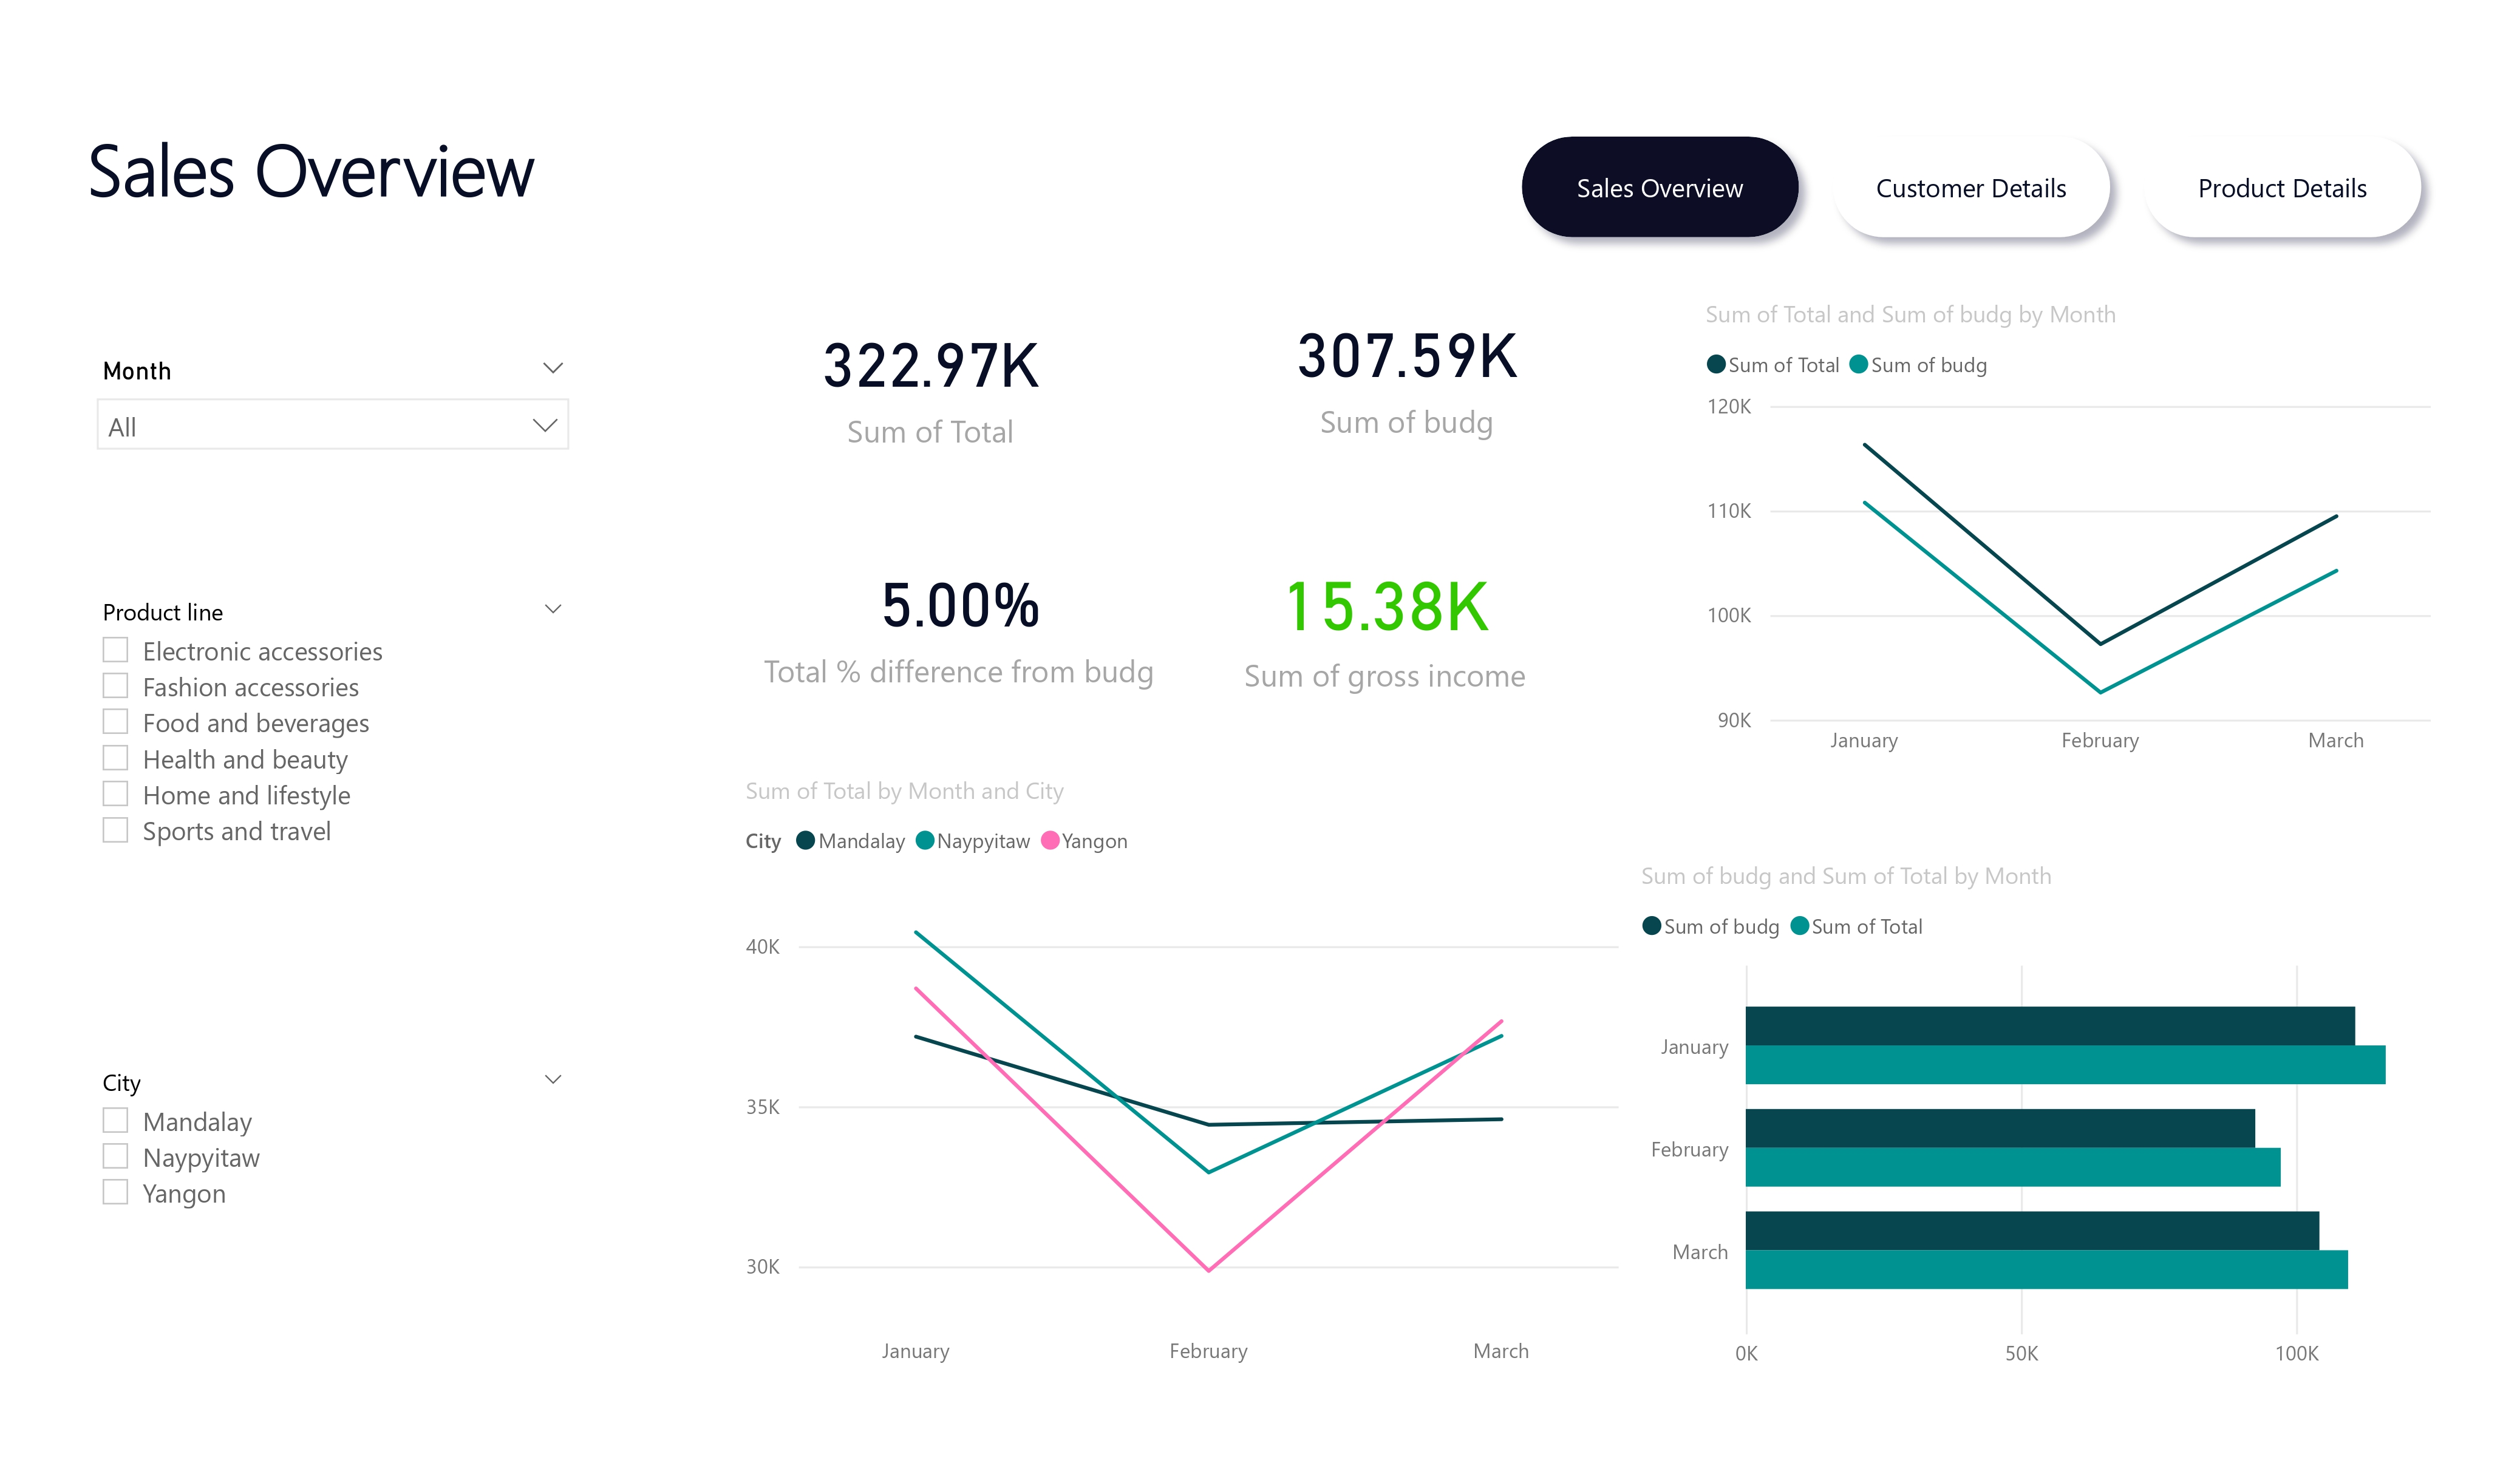

Layout of this report page (visuals, bound fields, positions):
{"tool":"powerbi","page":{"name":"Sales Overview","canvas":[1280,720],"ordinal":0},"visuals":[{"type":"slicer","fields":{"Values":["supermarket_sales - Sheet1 (2).Date.Variation.Date Hierarchy.Month"]},"box":[17.1,158.6,268.6,64.3],"z":0},{"type":"textbox","box":[17.1,34.3,304.3,75.7],"z":1000},{"type":"slicer","fields":{"Values":["supermarket_sales - Sheet1 (2).City"]},"box":[16.7,533.3,268.3,171.7],"z":2000},{"type":"slicer","fields":{"Values":["supermarket_sales - Sheet1 (2).Product line"]},"box":[16.7,285,268.3,240],"z":3000},{"type":"clusteredBarChart","fields":{"Category":["supermarket_sales - Sheet1 (2).Date.Variation.Date Hierarchy.Month"],"Y":["Sum(supermarket_sales - Sheet1.budg)","Sum(supermarket_sales - Sheet1 (2).Total)"]},"box":[835.7,428.6,425.7,277.1],"z":4000},{"type":"card","fields":{"Values":["Sum(supermarket_sales - Sheet1 (2).gross income)"]},"box":[598.6,232.9,214.3,140],"z":5000},{"type":"card","fields":{"Values":["Sum(supermarket_sales - Sheet1 (2).Total)"]},"box":[333.8,120,265,112.5],"z":6000},{"type":"card","fields":{"Values":["Sum(supermarket_sales - Sheet1.budg)"]},"box":[598.6,110,237.1,122.9],"z":7000},{"type":"card","fields":{"Values":["supermarket_sales - Sheet1.Total % difference from budg"]},"box":[364.3,232.9,234.3,140],"z":8000},{"type":"lineChart","fields":{"Category":["supermarket_sales - Sheet1 (2).Date.Variation.Date Hierarchy.Month"],"Y":["Sum(supermarket_sales - Sheet1 (2).Total)"],"Series":["supermarket_sales - Sheet1 (2).City"]},"box":[364.3,383.8,469.4,321.5],"z":9000},{"type":"pageNavigator","box":[768.6,38.6,492.9,71.4],"z":10000},{"type":"lineChart","fields":{"Category":["supermarket_sales - Sheet1 (2).Date.Variation.Date Hierarchy.Month"],"Y":["Sum(supermarket_sales - Sheet1 (2).Total)","Sum(supermarket_sales - Sheet1.budg)"]},"box":[870,133.3,391.7,250],"z":11000}]}

Visuals, with their boxes in screenshot pixels (x1, y1, x2, y2):
slicer - supermarket_sales - Sheet1 (2).Date.Variation.Date Hierarchy.Month: 78, 347, 588, 469
textbox: 78, 110, 655, 254
slicer - supermarket_sales - Sheet1 (2).City: 77, 1058, 587, 1383
slicer - supermarket_sales - Sheet1 (2).Product line: 77, 586, 587, 1042
clusteredBarChart - supermarket_sales - Sheet1 (2).Date.Variation.Date Hierarchy.Month x Sum(supermarket_sales - Sheet1.budg): 1632, 858, 2439, 1384
card - Sum(supermarket_sales - Sheet1 (2).gross income): 1182, 487, 1588, 753
card - Sum(supermarket_sales - Sheet1 (2).Total): 679, 273, 1182, 487
card - Sum(supermarket_sales - Sheet1.budg): 1182, 254, 1632, 487
card - supermarket_sales - Sheet1.Total % difference from budg: 737, 487, 1182, 753
lineChart - supermarket_sales - Sheet1 (2).Date.Variation.Date Hierarchy.Month x Sum(supermarket_sales - Sheet1 (2).Total): 737, 773, 1627, 1384
pageNavigator: 1504, 119, 2439, 254
lineChart - supermarket_sales - Sheet1 (2).Date.Variation.Date Hierarchy.Month x Sum(supermarket_sales - Sheet1 (2).Total): 1697, 299, 2440, 773
